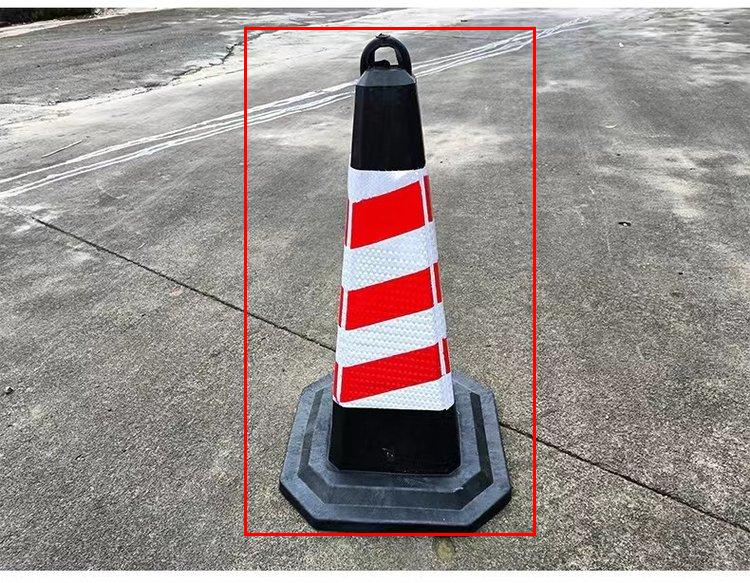traffic_cone: (287, 28, 529, 545)
